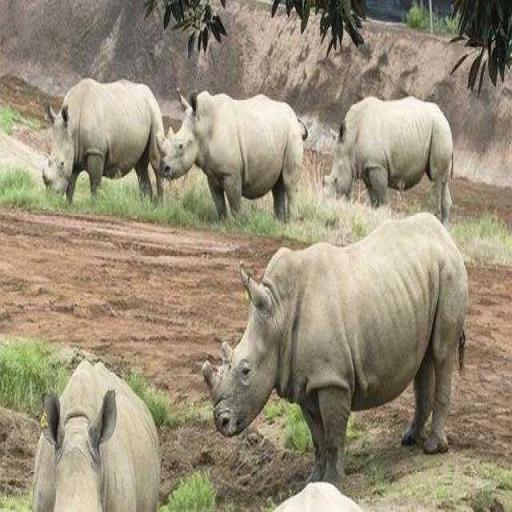Rhino: (202, 210, 468, 486), (158, 87, 308, 223), (31, 356, 161, 510), (322, 93, 454, 227), (42, 76, 167, 208)
